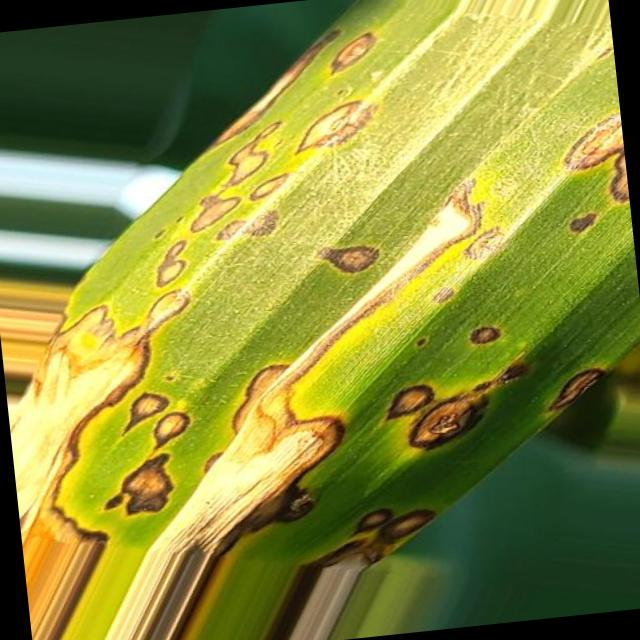Banana_Black_Sigatoka: (6, 236, 448, 640), (212, 47, 512, 292)
